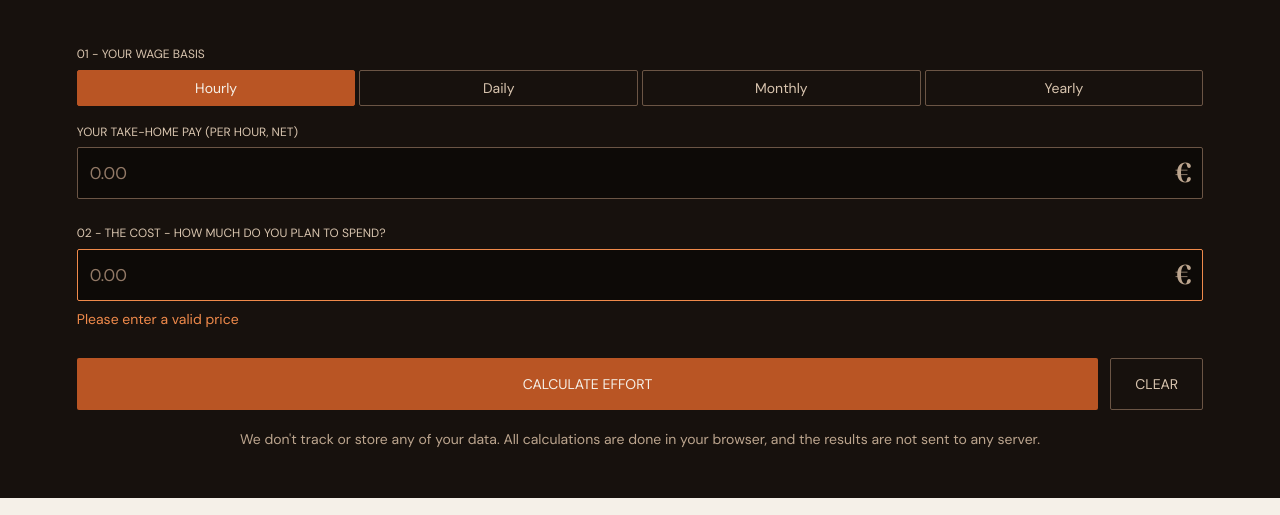
Test: CalculatorSection › clears the price error when the user edits the cost
Expected: the text "Please enter a valid price" is shown, [77,311,239,329]
In the number field with placeholder "0.00": (640, 275) [77,249,1203,301], type "45"
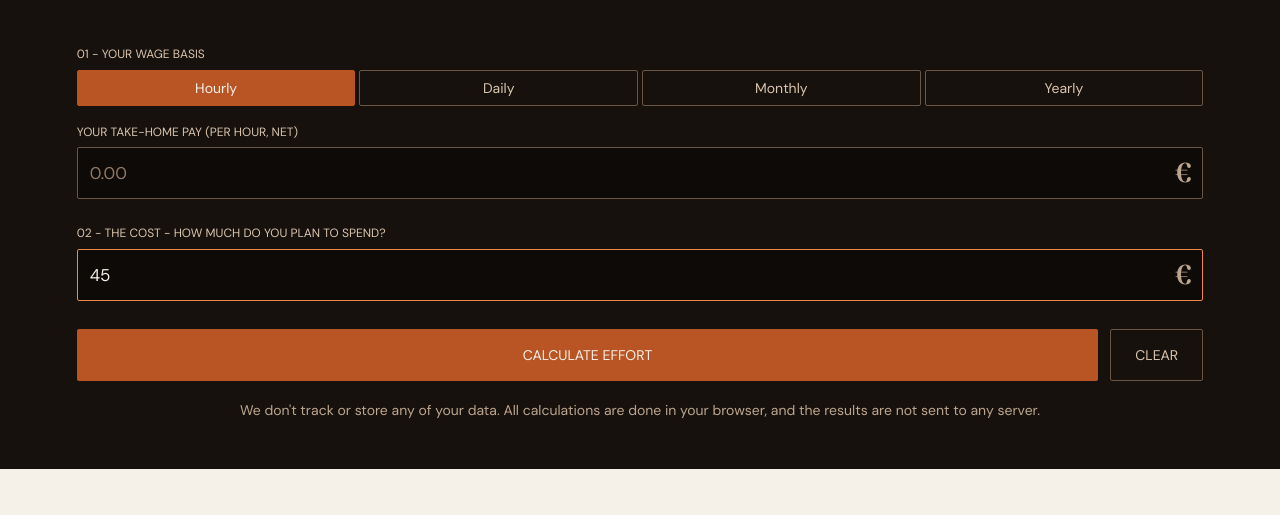
Expected: the text "Please enter a valid price" is gone
